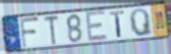8: (66, 13, 84, 44)
E: (84, 9, 110, 44)
F: (18, 16, 41, 49)
Q: (129, 7, 154, 37)
T: (42, 15, 61, 46), (109, 9, 126, 39)
